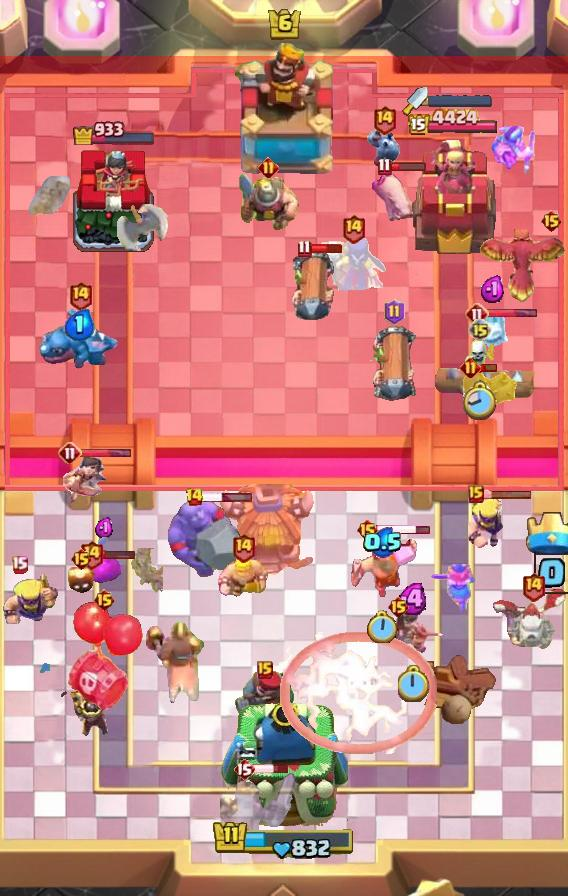axe: (115, 187, 169, 251)
bar: (376, 523, 431, 536), (201, 492, 253, 503), (481, 489, 533, 500), (80, 448, 132, 459), (486, 308, 538, 319), (253, 763, 290, 775), (390, 161, 427, 172), (101, 549, 136, 560), (309, 243, 343, 254), (478, 362, 498, 373)
bar-level: (521, 571, 546, 602), (79, 539, 104, 570), (231, 532, 256, 563), (68, 280, 93, 311), (341, 213, 366, 244), (372, 104, 397, 135), (58, 441, 82, 465), (468, 318, 492, 342), (465, 302, 489, 326), (387, 595, 410, 619), (93, 588, 116, 612), (70, 547, 93, 571), (356, 518, 379, 542), (540, 209, 563, 233), (384, 299, 405, 325), (233, 757, 255, 781), (460, 357, 481, 378), (258, 157, 279, 178), (185, 487, 204, 507), (11, 555, 28, 574), (257, 661, 273, 679), (468, 485, 484, 503), (297, 239, 312, 258), (377, 157, 392, 176)
barbarian: (215, 554, 271, 598)
barbarian-evolution: (0, 569, 62, 625), (462, 496, 512, 550)
bomber-evolution: (460, 362, 520, 420)
clock: (463, 380, 498, 422), (398, 665, 430, 702), (367, 610, 399, 646)
dagger-duchess-tower: (409, 138, 497, 256)
dagger-duchess-tower-bar: (428, 95, 492, 107)
dirt: (28, 176, 70, 222), (121, 548, 163, 593)
electro-dragon: (38, 307, 122, 371)
elixir: (363, 527, 403, 558), (397, 583, 431, 615), (65, 309, 95, 341), (480, 275, 506, 304), (95, 517, 114, 539)
elixir-golem-small: (86, 555, 122, 585)
fire-spirit: (67, 566, 95, 596)
hog: (368, 171, 420, 225)
hunter: (233, 668, 297, 722)
ice-spirit: (471, 311, 515, 351)
king-tower: (220, 701, 348, 826), (228, 41, 340, 181)
king-tower-bar: (212, 819, 356, 861)
little-prince: (56, 683, 112, 739)
lumberjack: (348, 535, 418, 597)
miner: (237, 171, 299, 235)
minion: (363, 127, 405, 169)
princess: (383, 604, 445, 656), (58, 449, 108, 505)
queen-tower: (71, 145, 157, 256)
royal-ghost: (220, 772, 298, 852)
skeleton: (464, 339, 496, 375)
spear-goblin: (490, 125, 538, 177)
the-log: (434, 363, 537, 401)
tower-bar: (407, 108, 499, 138), (72, 118, 157, 145)
valkyrie: (429, 562, 477, 616)
witch: (318, 236, 388, 296)
